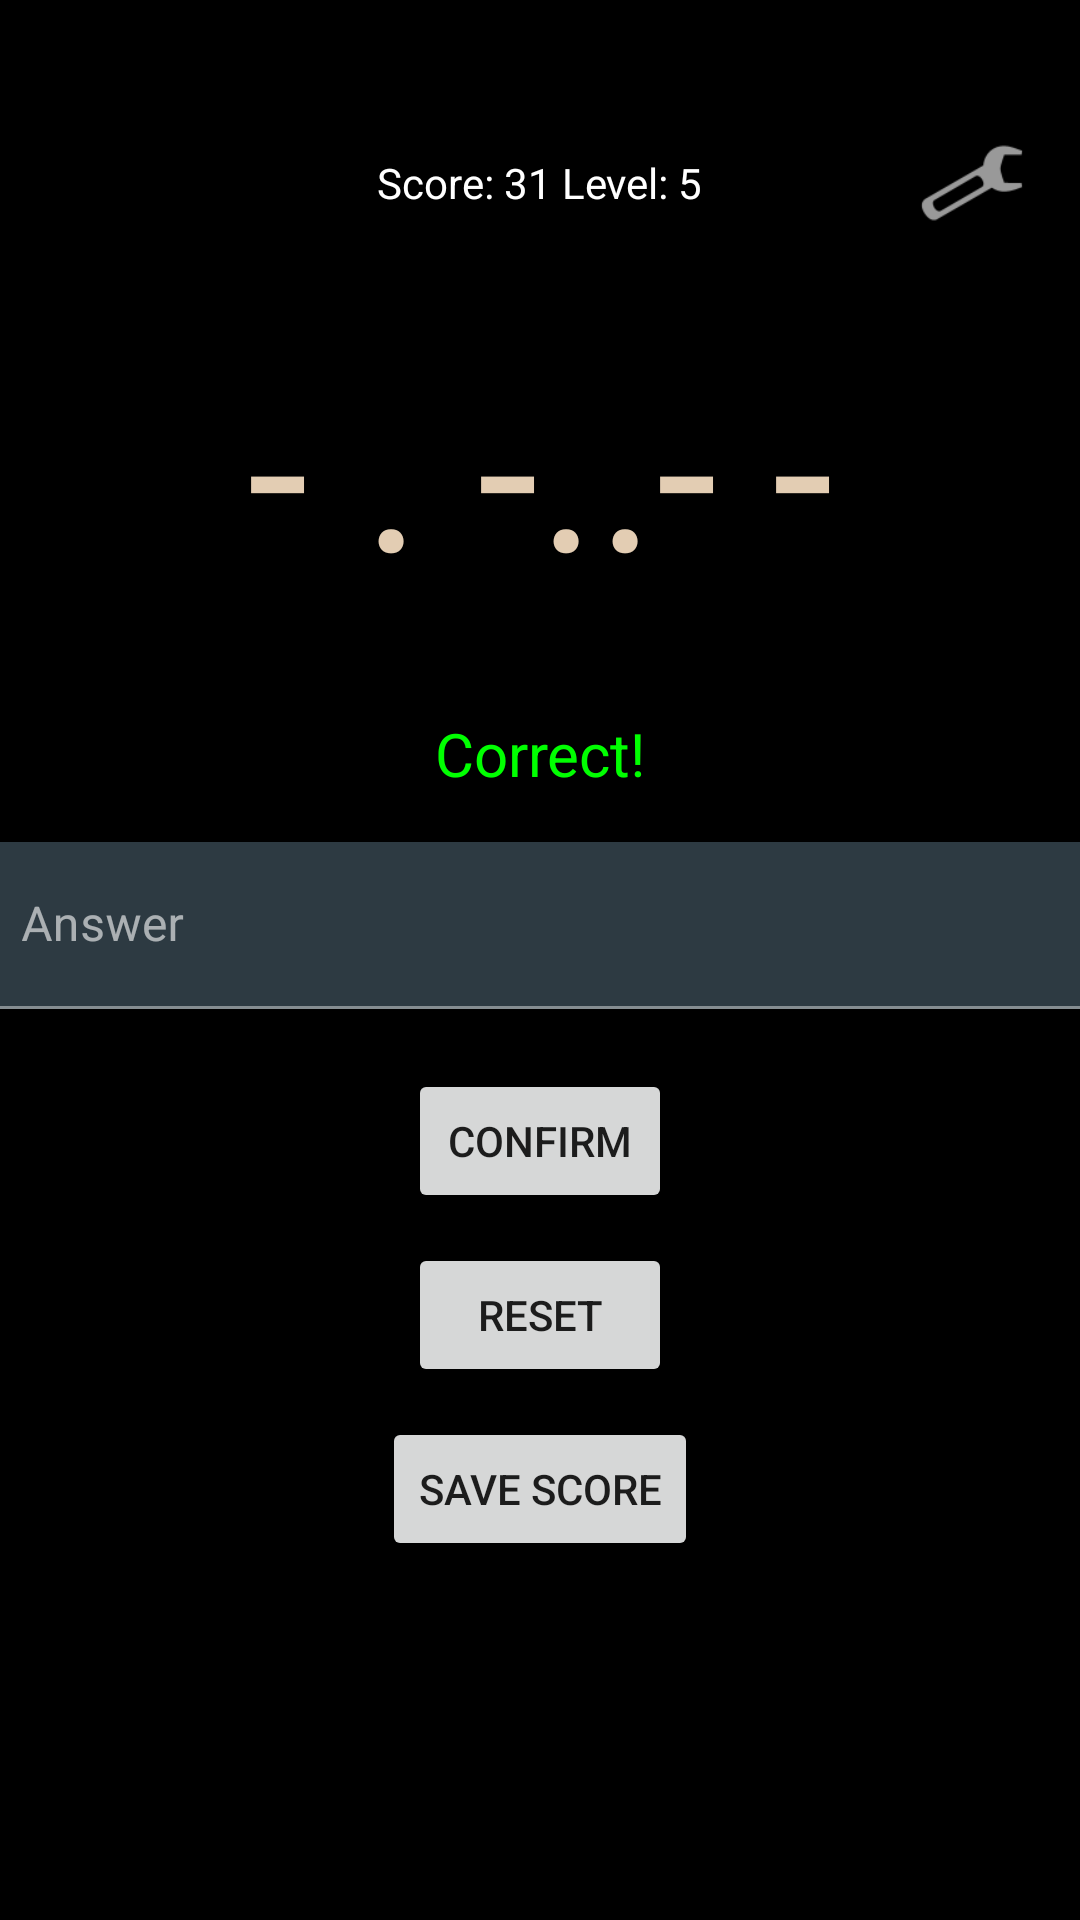

Where to tap for icons on this 1080px×1920px app screen, as [x,y]:
manage: [971,183]
